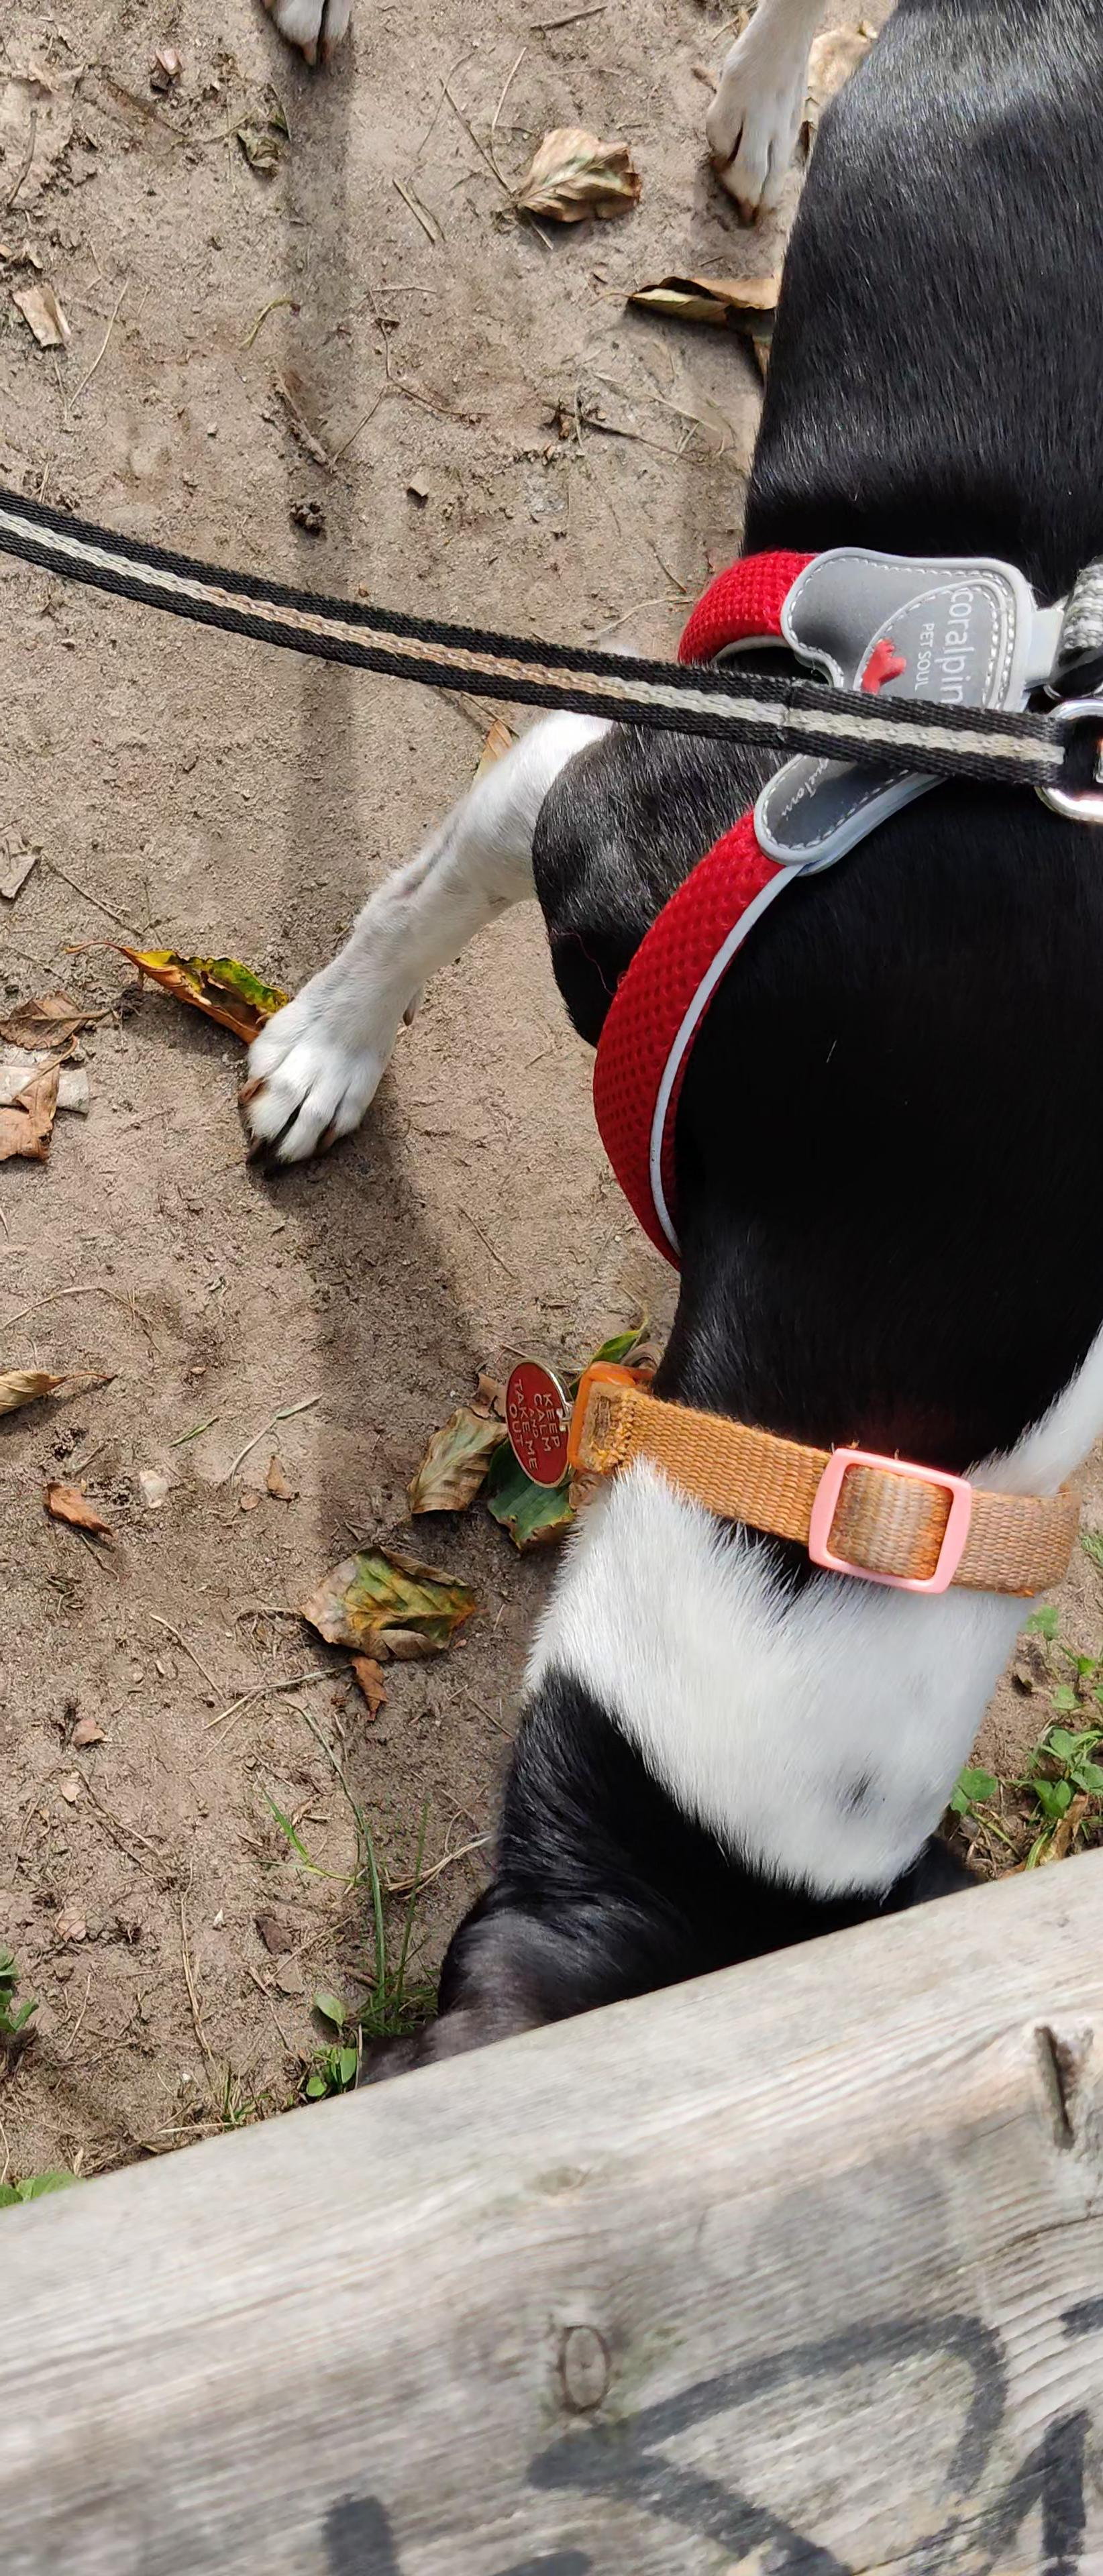Dog: (201, 0, 1103, 2147)
